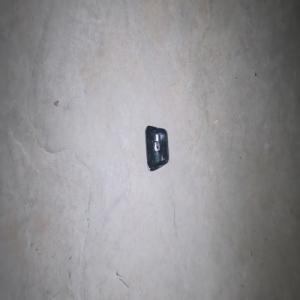LuggagePart: (144, 125, 169, 171)
